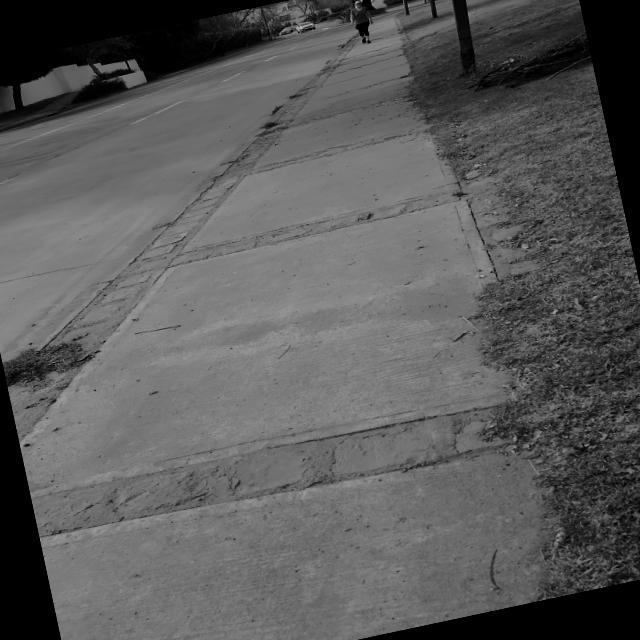person: (343, 0, 380, 47)
